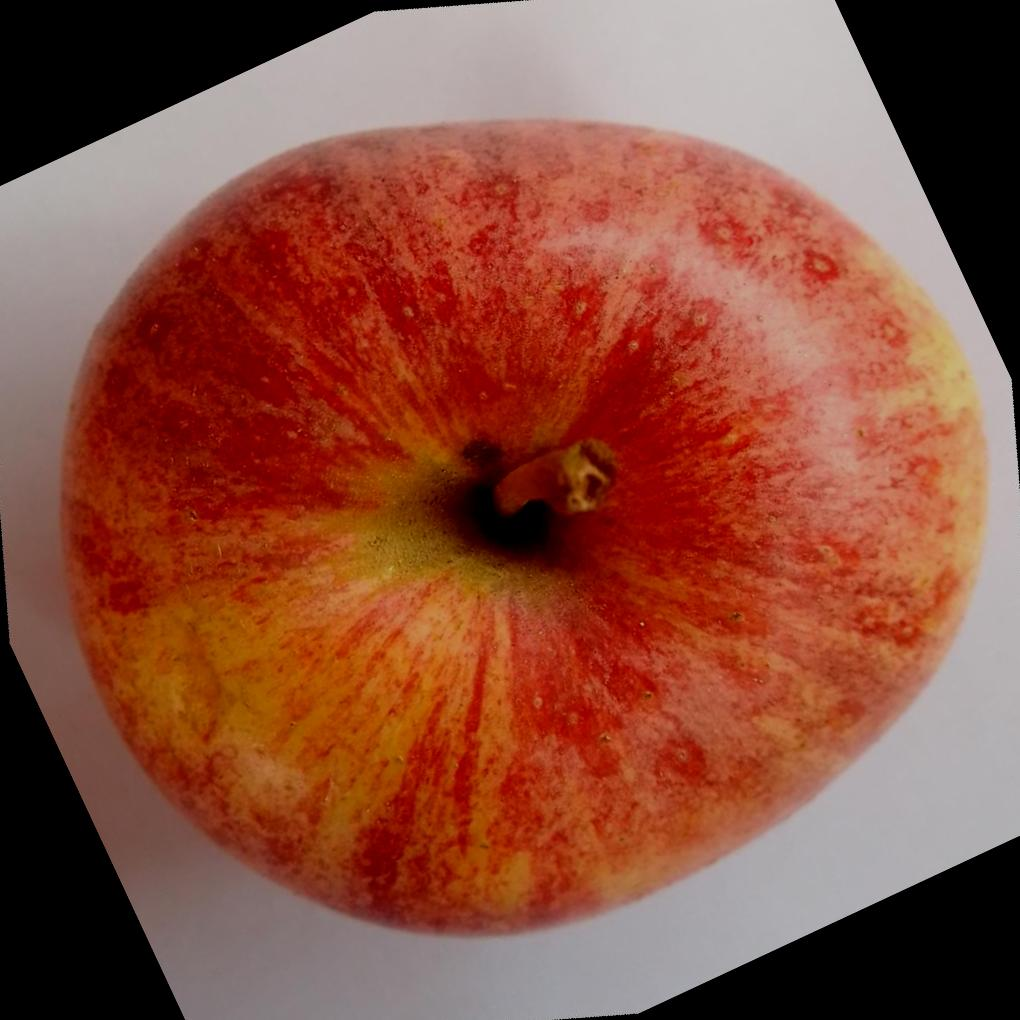FreshGuava: (58, 118, 998, 943)
